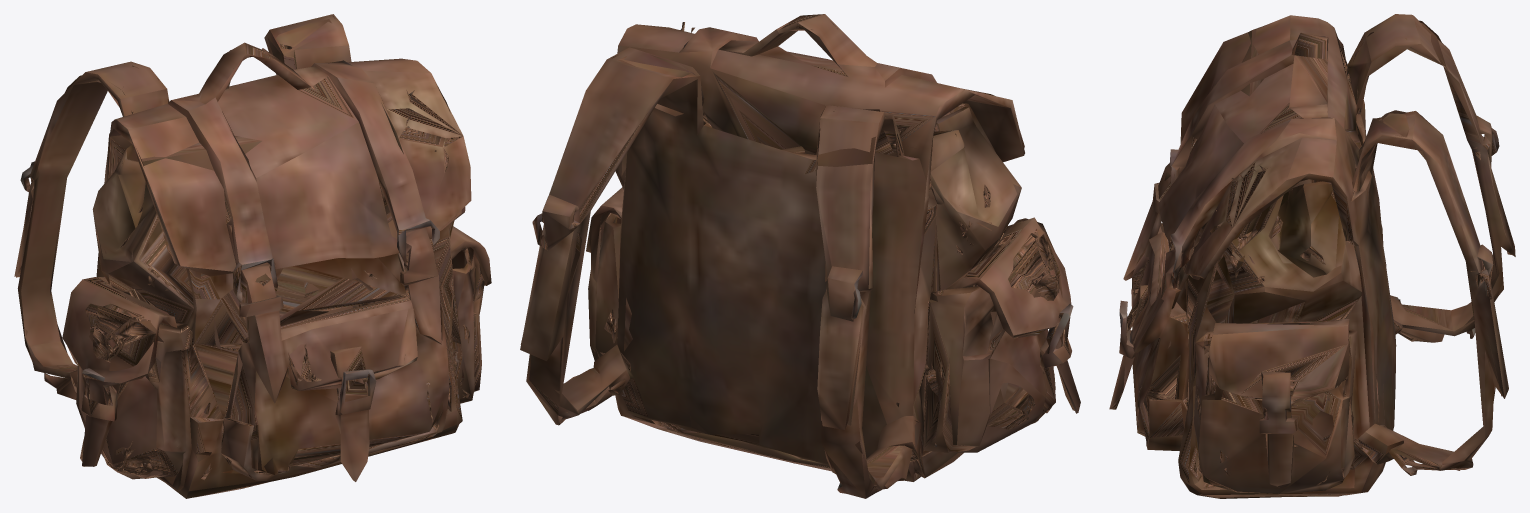
3 views of the same model, side by side, from view 1: azimuth 30°, elevation 25°; view 2: azimuth 150°, elevation 25°; view 3: azimuth 270°, elevation 25° (orthographic). The views are drawn at different scales.
Parts seen in each view (by area): view 1: geometry_0; view 2: geometry_0; view 3: geometry_0.
Part boxes in pixels (x1,y1,x2,y2): geometry_0: [14, 14, 491, 498]; geometry_0: [520, 14, 1080, 498]; geometry_0: [1109, 14, 1515, 498].
Size of the model in its own units: 0.4698 by 0.4172 by 0.3936.
1 material, 1 textured.
